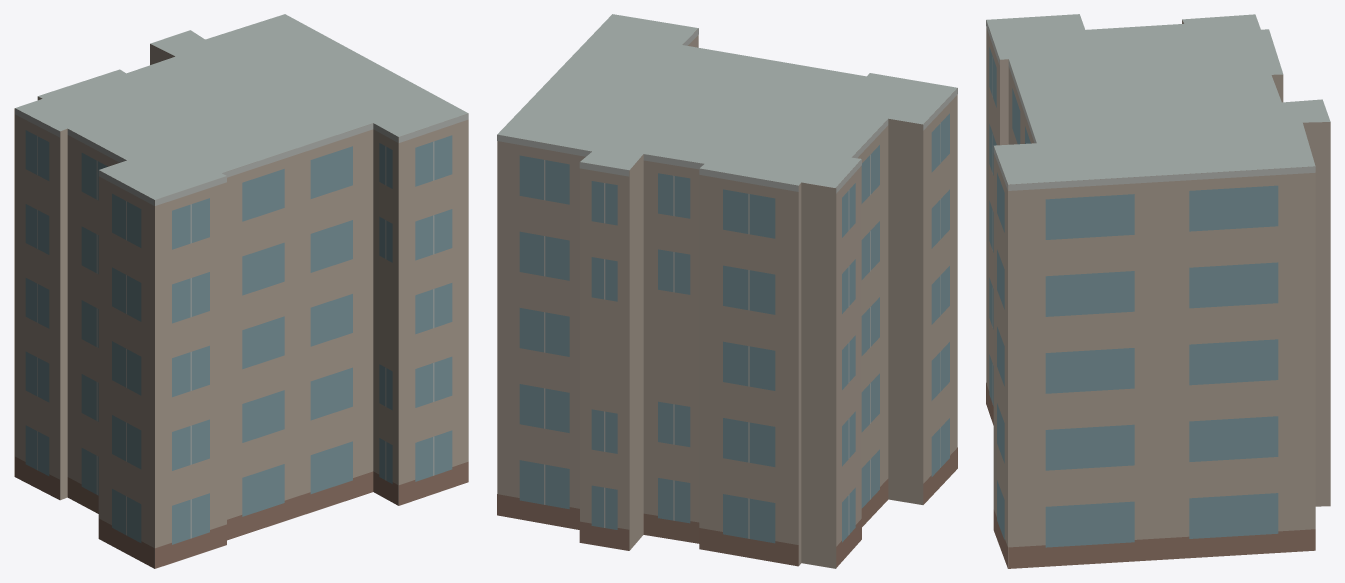
The model's file is survey-upis-32688344.glb.
3 views of the same model, side by side, from view 1: azimuth 30°, elevation 25°; view 2: azimuth 150°, elevation 25°; view 3: azimuth 270°, elevation 25° (orthographic). The views are drawn at different scales.
Parts seen in each view (by area): view 1: survey-upis-32688344.tmp; view 2: survey-upis-32688344.tmp; view 3: survey-upis-32688344.tmp.
Part boxes in pixels (bbox=[...]): survey-upis-32688344.tmp: bbox=[14, 14, 468, 568]; survey-upis-32688344.tmp: bbox=[497, 14, 957, 568]; survey-upis-32688344.tmp: bbox=[986, 14, 1330, 568].
Bounding box in the file's own units: 13.81 × 14.5 × 11.79.
